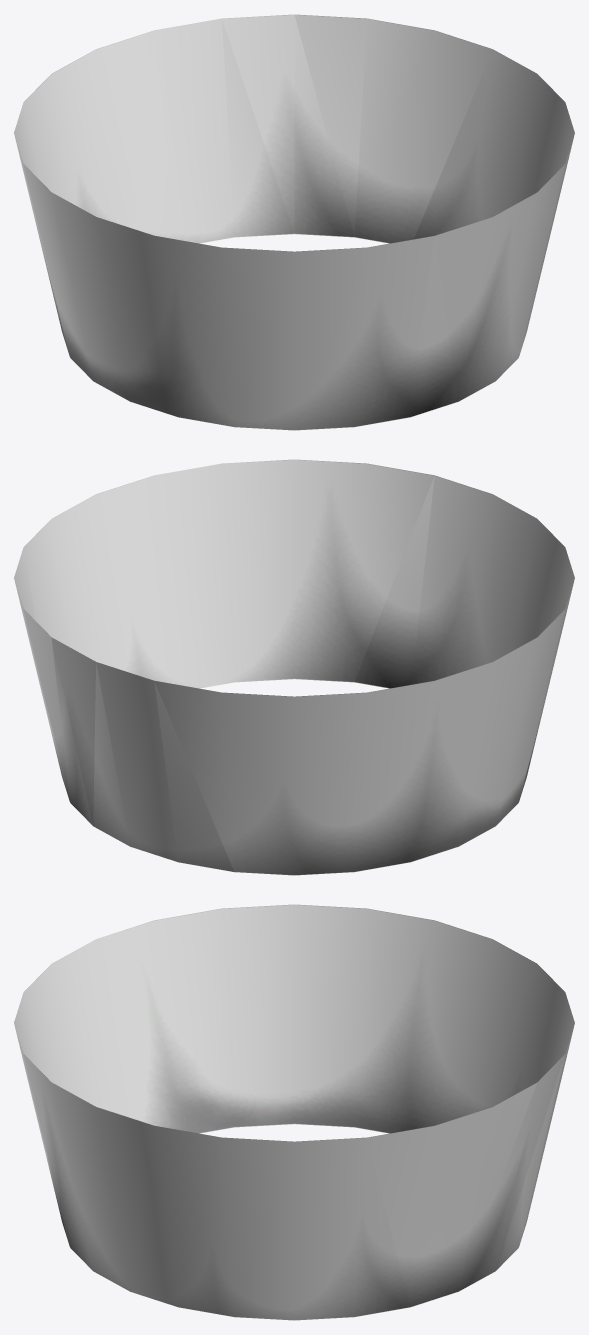
File: Effect_Crown_0.FBX
3 views of the same model, one above another, from view 1: azimuth 30°, elevation 25°; view 2: azimuth 150°, elevation 25°; view 3: azimuth 270°, elevation 25° (orthographic).
Visible parts, largest first — view 1: particle_crown; view 2: particle_crown; view 3: particle_crown.
Boxes of the visible parts, bbox=[...] form: particle_crown: bbox=[14, 14, 574, 430]; particle_crown: bbox=[14, 459, 574, 875]; particle_crown: bbox=[14, 904, 574, 1320].
Bounding box in the file's own units: 49.5 × 19.4 × 49.5.
